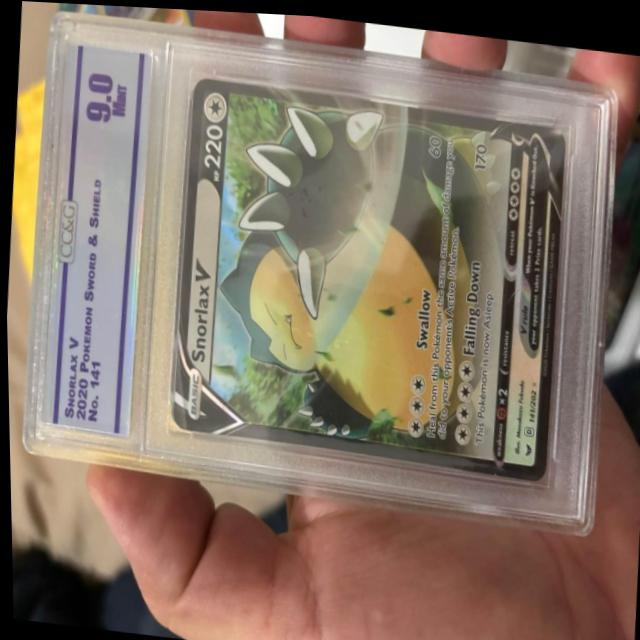card: (169, 73, 565, 476)
